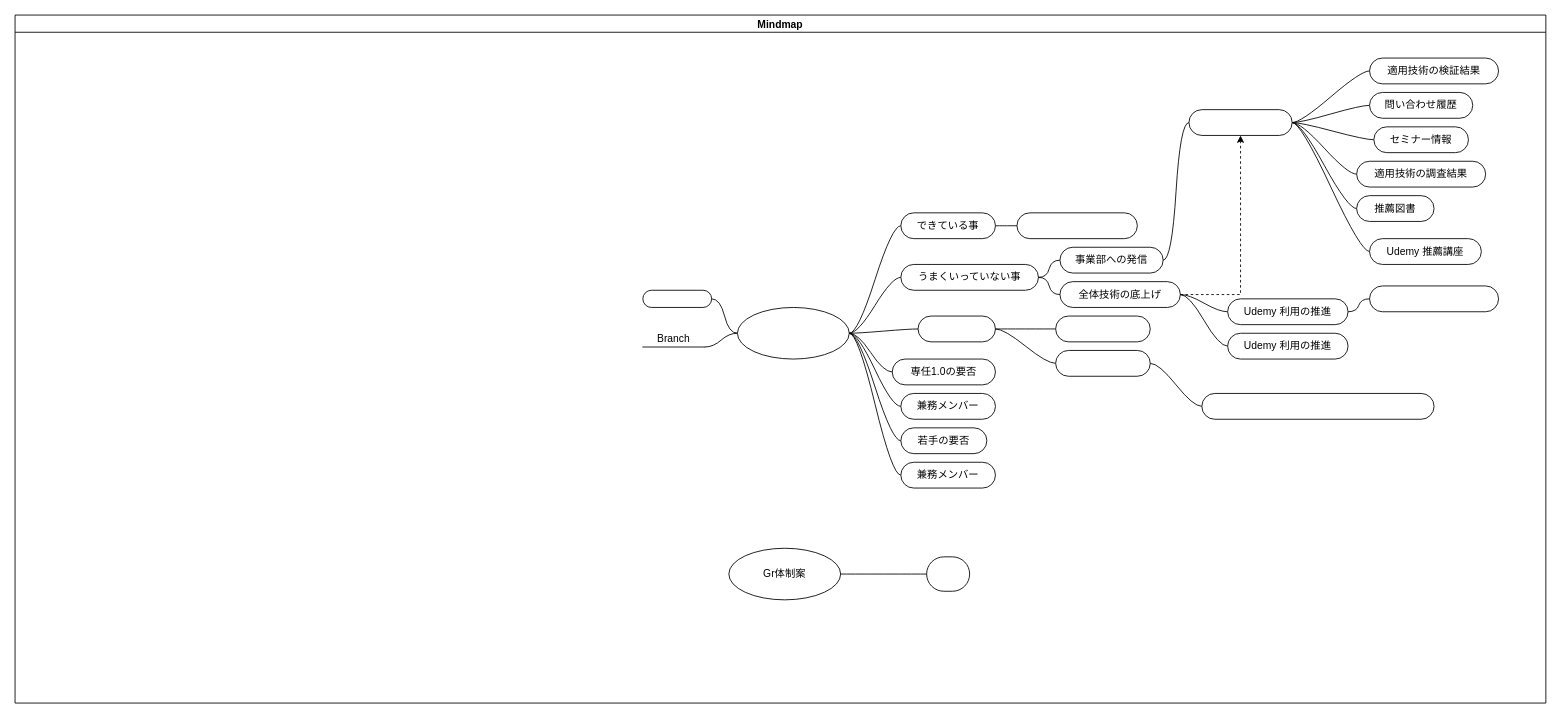
Some shapes in this 1561 by 718 pixel diagram are drawn without their labels. The centre of each missing label's shape, as x and y in pixels:
Grの役割: pixel 956 328
Gr体制についての論点: pixel 793 333
Topic: pixel 677 298
→ 昨年ふりかえり: pixel 1076 225
事業部全体の実装力向上の仕組みを考える: pixel 1317 406
希望者には配るべき: pixel 1434 298
担うべき役割: pixel 1102 363
昨年度の役割: pixel 1102 328
発信すべき情報: pixel 1240 122
